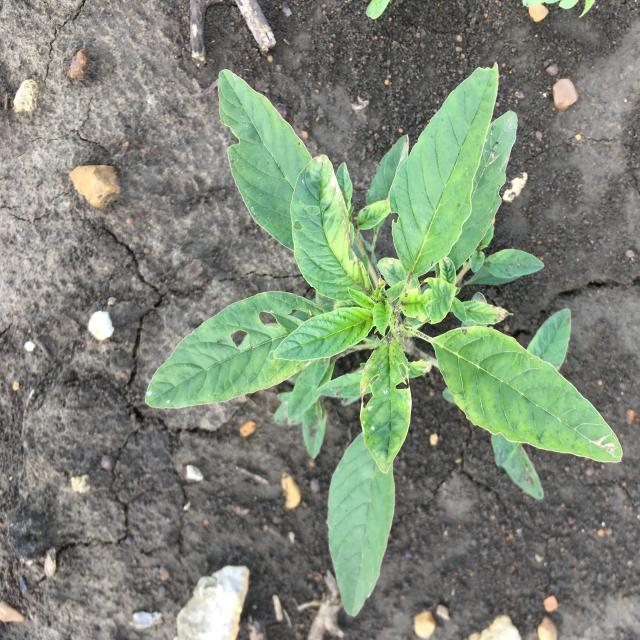Waterhemp: (144, 62, 623, 618)
